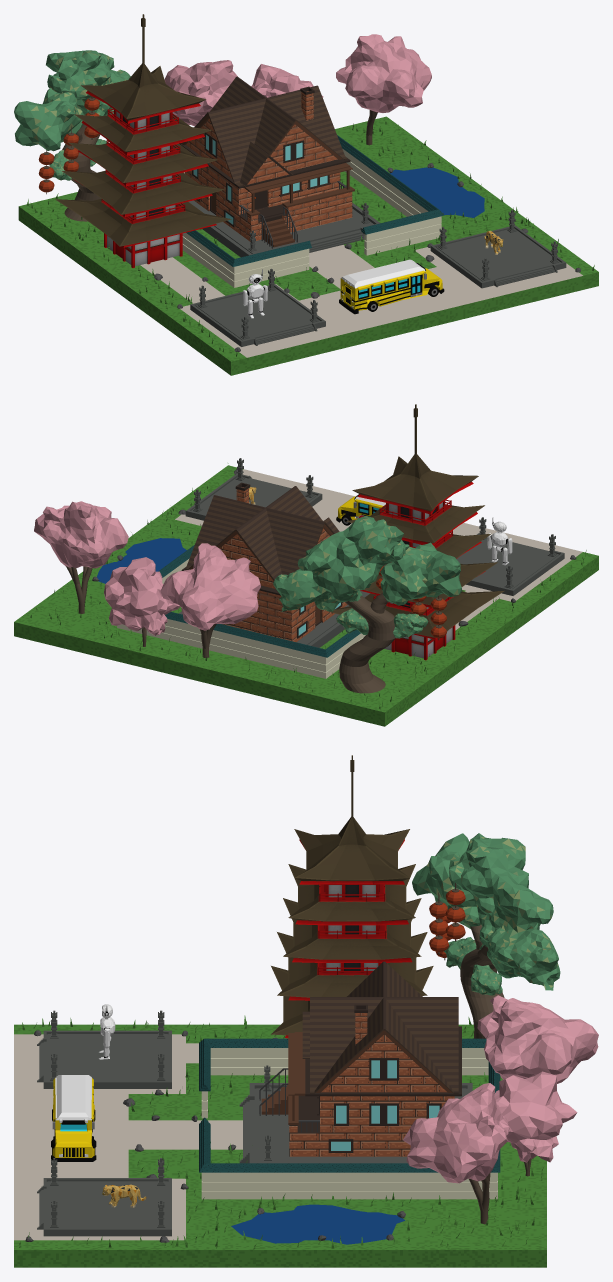
The picture shows the model from 3 angles, top to bottom: view 1: azimuth 30°, elevation 25°; view 2: azimuth 150°, elevation 25°; view 3: azimuth 270°, elevation 25°; orthographic projection. The views are drawn at different scales.
Parts seen in each view (by area): view 1: Cube.005, Cube.469, VEHICLES_SCHOOL_BUS, OBJRANDOM_PLATZEEBOT; view 2: Cube.005, Cube.469, VEHICLES_SCHOOL_BUS, OBJRANDOM_PLATZEEBOT; view 3: Cube.005, Cube.469, VEHICLES_SCHOOL_BUS.
Part boxes in pixels (box(x1,y1,x2,y2)): Cube.005: box(14, 14, 598, 375); Cube.469: box(179, 76, 354, 248); VEHICLES_SCHOOL_BUS: box(339, 259, 444, 314); OBJRANDOM_PLATZEEBOT: box(243, 269, 267, 318); Cube.005: box(14, 404, 598, 726); Cube.469: box(181, 482, 347, 642); VEHICLES_SCHOOL_BUS: box(336, 494, 385, 525); OBJRANDOM_PLATZEEBOT: box(487, 517, 512, 565); Cube.005: box(14, 755, 598, 1267); Cube.469: box(259, 961, 461, 1156); VEHICLES_SCHOOL_BUS: box(51, 1075, 96, 1161).
Size of the model in its own units: 4528 by 2693 by 4389.
41 materials, 6 textured.
